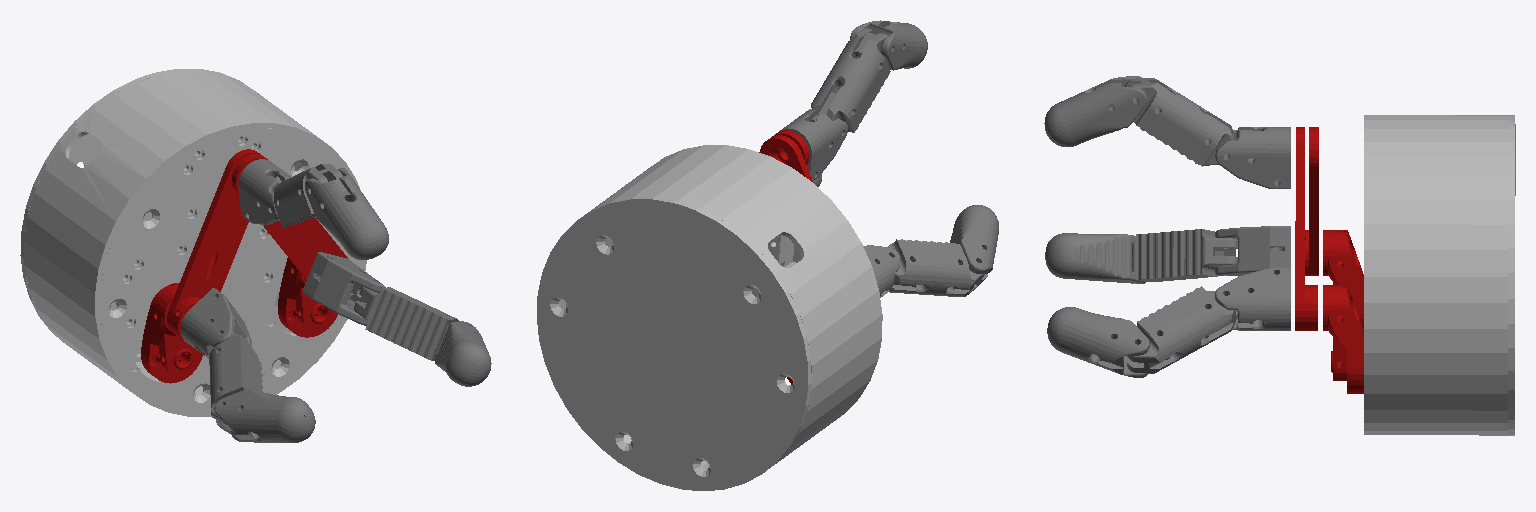
--- What the picture shows (computed from the rendered views, not written in the file) ---
The picture shows the robot from 3 angles, left to right: view 1: azimuth 30°, elevation 25°; view 2: azimuth 150°, elevation 25°; view 3: azimuth 270°, elevation 25°; orthographic projection.
Robot: ur5_plus_RUTH — 24 links, 23 joints (6 revolute, 13 continuous, 4 fixed); root link world; default pose: every joint at zero.
Links seen in each view (by area): view 1: ruth_base, Link_2, Phal_3C, Phal_2B, Phal_1C, Link_1, Phal_2A, Phal_1B, Phal_1A, Link_4, Phal_2C, Link_3 (+2 smaller); view 2: ruth_base, Phal_3B, Phal_1B, Phal_1C, Phal_3A, Phal_3C, Phal_1A, Link_2; view 3: ruth_base, Phal_2B, Phal_3B, Phal_1B, Phal_2C, Phal_3C, Phal_1C, Phal_2A, Phal_3A, Link_3, Phal_1A, Link_4 (+2 smaller).
Link boxes in pixels (x1,y1,x2,y2): ruth_base: (20, 69, 366, 416); Link_2: (167, 149, 260, 339); Phal_3C: (305, 168, 388, 259); Phal_2B: (354, 286, 458, 360); Phal_1C: (214, 389, 315, 442); Link_1: (141, 283, 202, 383); Phal_2A: (302, 252, 385, 325); Phal_1B: (209, 332, 262, 435); Phal_1A: (180, 288, 251, 358); Link_4: (232, 154, 347, 280); Phal_2C: (435, 321, 491, 386); Link_3: (278, 258, 337, 337); ruth_base: (537, 145, 882, 490); Phal_3B: (811, 28, 890, 132); Phal_1B: (888, 239, 983, 296); Phal_1C: (950, 205, 998, 296); Phal_3A: (779, 109, 847, 180); Phal_3C: (850, 20, 927, 70); Phal_1A: (863, 245, 900, 297); Link_2: (760, 135, 813, 182); ruth_base: (1364, 115, 1515, 435); Phal_2B: (1127, 286, 1237, 373); Phal_3B: (1125, 78, 1236, 166); Phal_1B: (1132, 229, 1237, 281); Phal_2C: (1047, 307, 1149, 377); Phal_3C: (1044, 76, 1146, 146); Phal_1C: (1045, 233, 1145, 283); Phal_2A: (1215, 268, 1290, 330); Phal_3A: (1215, 127, 1290, 188); Link_3: (1323, 285, 1363, 393); Phal_1A: (1215, 226, 1290, 275); Link_4: (1295, 127, 1317, 330).
Bounding box of the posed robot: 0.1399 × 0.2054 × 0.1599 m (x, y, z).
Meshes: 21 distinct files referenced, 14 mesh visuals loaded (14 binary STL); not drawn: 7 (reference not matched to a file when rendering).

The robot description file, URDF, robot "ur5_plus_RUTH":
<?xml version="1.0" encoding="utf-8"?>
<!-- This URDF was automatically created by SolidWorks to URDF Exporter! Originally created by Stephen Brawner ([email redacted]) 
     Commit Version: 1.6.0-1-g15f4949  Build Version: 1.6.7594.29634
     For more information, please see http://wiki.ros.org/sw_urdf_exporter -->
<robot
  name="ur5_plus_RUTH">

  <link name="base_link">
    <visual>
      <geometry>
        <mesh filename="../meshes/ur5/visual/base.obj"/>
      </geometry>
      <material name="LightGrey">
        <color rgba="0.7 0.7 0.7 1.0"/>
      </material>
    </visual> 
    <collision>
      <geometry>
        <mesh filename="../meshes/ur5/collision/base.stl"/>
      </geometry>
    </collision>
    <inertial>
      <mass value="0.0"/>
      <origin rpy="0 0 0" xyz="0.0 0.0 0.0"/>
      <inertia ixx="0.00443333156" ixy="0.0" ixz="0.0" iyy="0.00443333156" iyz="0.0" izz="0.0072"/>
    </inertial>
  </link>

  <joint name="shoulder_pan_joint" type="revolute">
    <parent link="base_link"/>
    <child link="shoulder_link"/>
    <origin rpy="0.0 0.0 3.14" xyz="0.0 0.0 0.089159"/>
    <axis xyz="0 0 1"/>
    <limit effort="300.0" lower="-3.14159265359" upper="3.14159265359" velocity="10"/>
    <dynamics damping="0.5" friction="0.0"/>
  </joint>
  <link name="shoulder_link">
    <visual>
      <geometry>
        <mesh filename="../meshes/ur5/visual/shoulder.obj"/>
      </geometry>
      <material name="LightGrey">
        <color rgba="0.7 0.7 0.7 1.0"/>
      </material>
    </visual>
    <collision>
      <geometry>
        <mesh filename="../meshes/ur5/collision/shoulder.stl"/>
      </geometry>
    </collision>
    <inertial>
      <mass value="3.7"/>
      <origin rpy="0 0 0" xyz="0.0 0.0 0.5"/>
      <inertia ixx="0.010267495893" ixy="0.0" ixz="0.0" iyy="0.010267495893" iyz="0.0" izz="0.00666"/>
    </inertial>
  </link>
  <joint name="shoulder_lift_joint" type="revolute">
    <parent link="shoulder_link"/>
    <child link="upper_arm_link"/>
    <origin rpy="0.0 4.8 0.0" xyz="0.0 0.13585 0.0"/>
    <axis xyz="0 1 0"/>
    <limit effort="300.0" lower="-3.14159265359" upper="3.14159265359" velocity="10"/>
    <dynamics damping="0.5" friction="0.0"/>
  </joint>
  <link name="upper_arm_link">
    <visual>
      <geometry>
        <mesh filename="../meshes/ur5/visual/upperarm.obj"/>
      </geometry>
      <material name="LightGrey">
        <color rgba="0.7 0.7 0.7 1.0"/>
      </material>
    </visual>
    <collision>
      <geometry>
        <mesh filename="../meshes/ur5/collision/upperarm.stl"/>
      </geometry>
    </collision>
    <inertial>
      <mass value="8.393"/>
      <origin rpy="0 0 0" xyz="0.0 0.0 0.28"/>
      <inertia ixx="0.22689067591" ixy="0.0" ixz="0.0" iyy="0.22689067591" iyz="0.0" izz="0.0151074"/>
    </inertial>
  </link>
  <joint name="elbow_joint" type="revolute">
    <parent link="upper_arm_link"/>
    <child link="forearm_link"/>
    <origin rpy="0.0 0.0 0.0" xyz="0.0 -0.1197 0.425"/>
    <axis xyz="0 1 0"/>
    <limit effort="300.0" lower="-3.14159265359" upper="3.14159265359" velocity="10"/>
    <dynamics damping="0.5" friction="0.0"/>
  </joint>
  <link name="forearm_link">
    <visual>
      <geometry>
        <mesh filename="../meshes/ur5/visual/forearm.obj"/>
      </geometry>
      <material name="LightGrey">
        <color rgba="0.7 0.7 0.7 1.0"/>
      </material>
    </visual>
    <collision>
      <geometry>
        <mesh filename="../meshes/ur5/collision/forearm.stl"/>
      </geometry>
    </collision>
    <inertial>
      <mass value="2.275"/>
      <origin rpy="0 0 0" xyz="0.0 0.0 0.25"/>
      <inertia ixx="0.049443313556" ixy="0.0" ixz="0.0" iyy="0.049443313556" iyz="0.0" izz="0.004095"/>
    </inertial>
  </link>
  <joint name="wrist_1_joint" type="revolute">
    <parent link="forearm_link"/>
    <child link="wrist_1_link"/>
    <origin rpy="0.0 1.57079632679 0.0" xyz="0.0 0.0 0.39225"/>
    <axis xyz="0 1 0"/>
    <limit effort="300.0" lower="-3.14159265359" upper="3.14159265359" velocity="10"/>
    <dynamics damping="0.5" friction="0.0"/>
  </joint>
  <link name="wrist_1_link">
    <visual>

      <geometry>
        <mesh filename="../meshes/ur5/visual/wrist1.obj"/>
      </geometry>
      <material name="LightGrey">
        <color rgba="0.7 0.7 0.7 1.0"/>
      </material>
    </visual>
    <collision>
      <geometry>
        <mesh filename="../meshes/ur5/collision/wrist1.stl"/>
      </geometry>
    </collision>
    <inertial>
      <mass value="1.219"/>
      <origin rpy="0 0 0" xyz="0.0 0.0 0.0"/>
      <inertia ixx="0.111172755531" ixy="0.0" ixz="0.0" iyy="0.111172755531" iyz="0.0" izz="0.21942"/>
    </inertial>
  </link>
  <joint name="wrist_2_joint" type="revolute">
    <parent link="wrist_1_link"/>
    <child link="wrist_2_link"/>
    <origin rpy="0.0 0.0 0.0" xyz="0.0 0.093 0.0"/>
    <axis xyz="0 0 1"/>
    <limit effort="300.0" lower="-3.14159265359" upper="3.14159265359" velocity="10"/>
    <dynamics damping="0.5" friction="0.0"/>
  </joint>
  <link name="wrist_2_link">
    <visual>
      <geometry>
        <mesh filename="../meshes/ur5/visual/wrist2.obj"/>
      </geometry>
      <material name="LightGrey">
        <color rgba="0.7 0.7 0.7 1.0"/>
      </material>
    </visual>
    <collision>
      <geometry>
        <mesh filename="../meshes/ur5/collision/wrist2.stl"/>
      </geometry>
    </collision>
    <inertial>
      <mass value="1.219"/>
      <origin rpy="0 0 0" xyz="0.0 0.0 0.0"/>
      <inertia ixx="0.111172755531" ixy="0.0" ixz="0.0" iyy="0.111172755531" iyz="0.0" izz="0.21942"/>
    </inertial>
  </link>
  <joint name="wrist_3_joint" type="revolute">
    <parent link="wrist_2_link"/>
    <child link="wrist_3_link"/>
    <origin rpy="0.0 0.0 0.0" xyz="0.0 0.0 0.09465"/>
    <axis xyz="0 1 0"/>
    <limit effort="300.0" lower="-3.14159265359" upper="3.14159265359" velocity="10"/>
    <dynamics damping="0.5" friction="0.0"/>
  </joint>
  <link name="wrist_3_link">
    <visual>
      <geometry>
        <mesh filename="../meshes/ur5/visual/wrist3.obj"/>
      </geometry>
      <material name="LightGrey">
        <color rgba="0.7 0.7 0.7 1.0"/>
      </material>
    </visual>
    <collision>
      <geometry>
        <mesh filename="../meshes/ur5/collision/wrist3.stl"/>
      </geometry>
    </collision>
    <inertial>
      <mass value="0.1879"/>
      <origin rpy="0 0 0" xyz="0.0 0.0 0.0"/>
      <inertia ixx="0.0171364731454" ixy="0.0" ixz="0.0" iyy="0.0171364731454" iyz="0.0" izz="0.033822"/>
    </inertial>
  </link>
  <joint name="ee_fixed_joint" type="fixed">
    <parent link="wrist_3_link"/>
    <child link="ee_link"/>
    <origin rpy="0.0 0.0 1.57079632679" xyz="0.0 0.0823 0.0"/>
  </joint>
  <link name="ee_link">
    <collision>
      <geometry>
        <box size="0.01 0.01 0.01"/>
      </geometry>
      <origin rpy="0 0 0" xyz="-0.01 0 0"/>
    </collision>
  </link>

  <!--################################################
  ########          connect model                #####
  ####################################################-->

  <!-- connect arm to world -->
  <link name="world"/>
  <joint name="world_joint" type="fixed">
    <parent link="world"/>
    <child link="base_link"/>
    <origin rpy="0.0 0.0 0" xyz="0.0 0.0 0.1"/>
  </joint>
  <!-- connect gripper to arm -->
 <!--  <joint name="arm_gripper_joint" type="fixed">
    <parent link="wrist_3_link"/>
    <child link="robotiq_85_adapter_link"/>
    <origin rpy="0.0 0.0 1.5708" xyz="0.0 0.089 0.0"/>
  </joint> -->

  <link
    name="ruth_base">
    <inertial>
      <origin
        xyz="0.127077766283005 -0.0191621330302985 0.1384522158111"
        rpy="0 0 0" />
      <mass
        value="0.2034522422309" />
      <inertia
        ixx="0.000374416249530274"
        ixy="-1.93330020521375E-06"
        ixz="-5.95746646598714E-07"
        iyy="0.000346388296121358"
        iyz="9.53964135617315E-06"
        izz="0.000638064486414968" />
    </inertial>
    <visual>
      <origin
        xyz="0 0 0"
        rpy="0 0 0" />
      <geometry>
        <mesh
          filename="../meshes/RUTH/base_link.STL" />
      </geometry>
      <material
        name="">
        <color
          rgba="0.752941176470588 0.752941176470588 0.752941176470588 1" />
      </material>
    </visual>
    <collision>
      <origin
        xyz="0 0 0"
        rpy="0 0 0" />
      <geometry>
        <mesh
          filename="../meshes/RUTH/base_link.STL" />
      </geometry>
    </collision>
  </link>
  <joint
    name="ruth_ur5_joint"
    type="fixed">
    <origin
      xyz="-0.12725 -0.015 -0.02055"
      rpy="-1.57 0 0" />
    <parent
      link="wrist_3_link" />
    <child
      link="ruth_base" />
    <axis
      xyz="0 1 0" />
  </joint>



  <link
    name="tcp">
    <inertial>
      <origin
        xyz="-4.85522099191726E-08 0.00754176115850061 0.00980207436679198"
        rpy="0 0 0" />
      <mass
        value="0.0001" />
      <inertia
        ixx="1.78457989700508E-06"
        ixy="-9.24736128227175E-13"
        ixz="1.00313454096253E-11"
        iyy="2.01750856012629E-06"
        iyz="-3.16852779957069E-07"
        izz="6.87048179378842E-07" />
    </inertial>
    <visual>
      <origin
        xyz="0 0 0"
        rpy="0 0 0" />
      <geometry>
        <cylinder length="0.001" radius="0.001"/>
      </geometry>
      <material
        name="">
        <color
          rgba="0.694117647058824 0.0980392156862745 0.0980392156862745 1" />
      </material>
    </visual>
    <collision>
      <origin
        xyz="0 0 0"
        rpy="0 0 0" />
      <geometry>
        <cylinder length="0.001" radius="0.001"/>
      </geometry>
    </collision>
  </link>
  <joint
    name="tcp_joint"
    type="fixed">
    <origin
      xyz="0.12725 0.0069455 0.17"
      rpy="0 0 0" />
    <parent
      link="ruth_base" />
    <child
      link="tcp" />
    <axis
      xyz="0 1 0" />
  </joint>

  <link
    name="Link_1">
    <inertial>
      <origin
        xyz="-4.85522099191726E-08 0.00754176115850061 0.00980207436679198"
        rpy="0 0 0" />
      <mass
        value="0.0106954297331709" />
      <inertia
        ixx="1.78457989700508E-06"
        ixy="-9.24736128227175E-13"
        ixz="1.00313454096253E-11"
        iyy="2.01750856012629E-06"
        iyz="-3.16852779957069E-07"
        izz="6.87048179378842E-07" />
    </inertial>
    <visual>
      <origin
        xyz="0 0 0"
        rpy="0 0 0" />
      <geometry>
        <mesh
          filename="../meshes/RUTH/Link_1.STL" />
      </geometry>
      <material
        name="">
        <color
          rgba="0.694117647058824 0.0980392156862745 0.0980392156862745 1" />
      </material>
    </visual>
    <collision>
      <origin
        xyz="0 0 0"
        rpy="0 0 0" />
      <geometry>
        <mesh
          filename="../meshes/RUTH/Link_1.STL" />
      </geometry>
    </collision>
  </link>
  <joint
    name="Joint_Link_1"
    type="continuous">
    <origin
      xyz="0.16225 0.0069455 0.17"
      rpy="1.5708 0 0" />
    <parent
      link="ruth_base" />
    <child
      link="Link_1" />
    <axis
      xyz="0 1 0" />
    <limit lower="-1.57079632679" upper="3.1416" effort="100000" velocity="300000"/>
  </joint>
  <link
    name="Link_2">
    <inertial>
      <origin
        xyz="-0.0138504507471105 0.00298913196612882 0.0239892494327788"
        rpy="0 0 0" />
      <mass
        value="0.0081155769847565" />
      <inertia
        ixx="4.24624272679738E-06"
        ixy="-1.0839998191557E-07"
        ixz="2.27278814057608E-06"
        iyy="5.77733675951076E-06"
        iyz="1.87767521060012E-07"
        izz="1.62176930787311E-06" />
    </inertial>
    <visual>
      <origin
        xyz="0 0 0"
        rpy="0 0 0" />
      <geometry>
        <mesh
          filename="../meshes/RUTH/Link_2.STL" />
      </geometry>
      <material
        name="">
        <color
          rgba="0.694117647058824 0.0980392156862745 0.0980392156862745 1" />
      </material>
    </visual>
    <collision>
      <origin
        xyz="0 0 0"
        rpy="0 0 0" />
      <geometry>
        <mesh
          filename="../meshes/RUTH/Link_2.STL" />
      </geometry>
    </collision>
  </link>
  <joint
    name="Joint_Link_2"
    type="continuous">
    <origin
      xyz="0 0.0198 0.025"
      rpy="0 0 0" />
    <parent
      link="Link_1" />
    <child
      link="Link_2" />
    <axis
      xyz="0 -1 0" />
  </joint>
  <link
    name="Phal_1A">
    <inertial>
      <origin
        xyz="-0.00279862078801177 0.0117506775312538 0.00146744230773752"
        rpy="0 0 0" />
      <mass
        value="0.00785370565672167" />
      <inertia
        ixx="8.46253699668518E-07"
        ixy="-4.44903495207771E-08"
        ixz="1.63079150535208E-08"
        iyy="6.74699672174807E-07"
        iyz="2.3327010744044E-08"
        izz="8.68810334780057E-07" />
    </inertial>
    <visual>
      <origin
        xyz="0 0 0"
        rpy="0 0 0" />
      <geometry>
        <mesh
          filename="../meshes/RUTH/Phal_1A.STL" />
      </geometry>
      <material
        name="">
        <color
          rgba="0.501960784313725 0.501960784313725 0.501960784313725 1" />
      </material>
    </visual>
    <collision>
      <origin
        xyz="0 0 0"
        rpy="0 0 0" />
      <geometry>
        <mesh
          filename="../meshes/RUTH/Phal_1A.STL" />
      </geometry>
    </collision>
  </link>
  <joint
    name="Joint_Phal_1A"
    type="continuous">
    <origin
      xyz="0 0.0120000000000001 0"
      rpy="0 0 0" />
    <parent
      link="Link_2" />
    <child
      link="Phal_1A" />
    <axis
      xyz="0 -1 0" />
  </joint>
  <link
    name="Phal_1B">
    <inertial>
      <origin
        xyz="0.0120982667168436 -0.00600000125632763 -0.0204718089290909"
        rpy="0 0 0" />
      <mass
        value="0.0131173787903579" />
      <inertia
        ixx="2.03432557340068E-06"
        ixy="-7.39160352105682E-13"
        ixz="9.01275696643256E-07"
        iyy="2.47473730017538E-06"
        iyz="2.78695009766931E-12"
        izz="1.22834934020072E-06" />
    </inertial>
    <visual>
      <origin
        xyz="0 0 0"
        rpy="0 0 0" />
      <geometry>
        <mesh
          filename="../meshes/RUTH/Phal_1B.STL" />
      </geometry>
      <material
        name="">
        <color
          rgba="0.501960784313725 0.501960784313725 0.501960784313725 1" />
      </material>
    </visual>
    <collision>
      <origin
        xyz="0 0 0"
        rpy="0 0 0" />
      <geometry>
        <mesh
          filename="../meshes/RUTH/Phal_1B.STL" />
      </geometry>
    </collision>
  </link>
  <joint
    name="Joint_Phal_1B"
    type="continuous">
    <origin
      xyz="0.00278624044845138 0.0279999999999999 0.00531383704712683"
      rpy="1.5707963267949 0.48292697765172 0" />
    <parent
      link="Phal_1A" />
    <child
      link="Phal_1B" />
    <axis
      xyz="0 -1 0" />
  </joint>
  <link
    name="Phal_1C">
    <inertial>
      <origin
        xyz="-0.0110468357804479 0.0100000213789645 -0.0200264772819169"
        rpy="0 0 0" />
      <mass
        value="0.0104118545526638" />
      <inertia
        ixx="1.47494552322991E-06"
        ixy="-3.74180497248539E-13"
        ixz="-3.96153464604467E-07"
        iyy="1.59524742849828E-06"
        iyz="5.37052654497466E-12"
        izz="8.01070476166137E-07" />
    </inertial>
    <visual>
      <origin
        xyz="0 0 0"
        rpy="0 0 0" />
      <geometry>
        <mesh
          filename="../meshes/RUTH/Phal_1C.STL" />
      </geometry>
      <material
        name="">
        <color
          rgba="0.501960784313725 0.501960784313725 0.501960784313725 1" />
      </material>
    </visual>
    <collision>
      <origin
        xyz="0 0 0"
        rpy="0 0 0" />
      <geometry>
        <mesh
          filename="../meshes/RUTH/Phal_1C.STL" />
      </geometry>
    </collision>
  </link>
  <joint
    name="Joint_Phal_1C"
    type="continuous">
    <origin
      xyz="0.0258033817734561 -0.016 -0.0398802644055086"
      rpy="0 0 0" />
    <parent
      link="Phal_1B" />
    <child
      link="Phal_1C" />
    <axis
      xyz="0 -1 0" />
  </joint>
  <link
    name="Link_3">
    <inertial>
      <origin
        xyz="-4.85522098914171E-08 0.00754176115850064 0.00980207436679202"
        rpy="0 0 0" />
      <mass
        value="0.0106954297331709" />
      <inertia
        ixx="1.78457989700509E-06"
        ixy="-9.24736128471064E-13"
        ixz="1.0031345410212E-11"
        iyy="2.0175085601263E-06"
        iyz="-3.1685277995707E-07"
        izz="6.8704817937884E-07" />
    </inertial>
    <visual>
      <origin
        xyz="0 0 0"
        rpy="0 0 0" />
      <geometry>
        <mesh
          filename="../meshes/RUTH/Link_3.STL" />
      </geometry>
      <material
        name="">
        <color
          rgba="0.694117647058824 0.0980392156862745 0.0980392156862745 1" />
      </material>
    </visual>
    <collision>
      <origin
        xyz="0 0 0"
        rpy="0 0 0" />
      <geometry>
        <mesh
          filename="../meshes/RUTH/Link_3.STL" />
      </geometry>
    </collision>
  </link>
  <joint
    name="Joint_Link_3"
    type="continuous">
    <origin
      xyz="0.0922534097079191 0.00694554989226147 0.169997985422611"
      rpy="1.5707963267949 0 0" />
    <parent
      link="ruth_base" />
    <child
      link="Link_3" />
    <axis
      xyz="0 1 0" />
    <limit lower="-3.1416" upper="1.57079632679" effort="100000" velocity="300000"/>
  </joint>
  <link
    name="Link_4">
    <inertial>
      <origin
        xyz="0.0139032099348594 -0.00302765430432597 0.0240810659954725"
        rpy="0 0 0" />
      <mass
        value="0.00851266701882223" />
      <inertia
        ixx="4.45344908990661E-06"
        ixy="-1.21626377517706E-07"
        ixz="-2.38724538041822E-06"
        iyy="6.05231136866237E-06"
        iyz="-2.10663065401218E-07"
        izz="1.69689556389439E-06" />
    </inertial>
    <visual>
      <origin
        xyz="0 0 0"
        rpy="0 0 0" />
      <geometry>
        <mesh
          filename="../meshes/RUTH/Link_4.STL" />
      </geometry>
      <material
        name="">
        <color
          rgba="0.694117647058824 0.0980392156862745 0.0980392156862745 1" />
      </material>
    </visual>
    <collision>
      <origin
        xyz="0 0 0"
        rpy="0 0 0" />
      <geometry>
        <mesh
          filename="../meshes/RUTH/Link_4.STL" />
      </geometry>
    </collision>
  </link>
  <joint
    name="Joint_Link_4"
    type="continuous">
    <origin
      xyz="0 0.0297999999999999 0.025"
      rpy="0 0 0" />
    <parent
      link="Link_3" />
    <child
      link="Link_4" />
    <axis
      xyz="0 1 0" />
  </joint>
  <link
    name="Phal_2A">
    <inertial>
      <origin
        xyz="0.00273512307932779 0.0117506764902445 0.00158264221325107"
        rpy="0 0 0" />
      <mass
        value="0.00785370643177855" />
      <inertia
        ixx="8.47653530081637E-07"
        ixy="4.34797730970517E-08"
        ixz="-1.71922555076792E-08"
        iyy="6.74699696381469E-07"
        iyz="2.51605438037303E-08"
        izz="8.67410355207584E-07" />
    </inertial>
    <visual>
      <origin
        xyz="0 0 0"
        rpy="0 0 0" />
      <geometry>
        <mesh
          filename="../meshes/RUTH/Phal_2A.STL" />
      </geometry>
      <material
        name="">
        <color
          rgba="0.501960784313725 0.501960784313725 0.501960784313725 1" />
      </material>
    </visual>
    <collision>
      <origin
        xyz="0 0 0"
        rpy="0 0 0" />
      <geometry>
        <mesh
          filename="../meshes/RUTH/Phal_2A.STL" />
      </geometry>
    </collision>
  </link>
  <joint
    name="Joint_Phal_2A"
    type="continuous">
    <origin
      xyz="0 0.00200000000000009 0"
      rpy="0 0 0" />
    <parent
      link="Link_4" />
    <child
      link="Phal_2A" />
    <axis
      xyz="0 1 0" />
  </joint>
  <link
    name="Phal_2B">
    <inertial>
      <origin
        xyz="-0.0131448589539002 -0.00599999942369064 0.0198160499292389"
        rpy="0 0 0" />
      <mass
        value="0.0131173778723872" />
      <inertia
        ixx="1.93868931541914E-06"
        ixy="8.1090897421688E-13"
        ixz="9.38206994091701E-07"
        iyy="2.47473707392019E-06"
        iyz="-2.69713536645353E-12"
        izz="1.32398571321504E-06" />
    </inertial>
    <visual>
      <origin
        xyz="0 0 0"
        rpy="0 0 0" />
      <geometry>
        <mesh
          filename="../meshes/RUTH/Phal_2B.STL" />
      </geometry>
      <material
        name="">
        <color
          rgba="0.501960784313725 0.501960784313725 0.501960784313725 1" />
      </material>
    </visual>
    <collision>
      <origin
        xyz="0 0 0"
        rpy="0 0 0" />
      <geometry>
        <mesh
          filename="../meshes/RUTH/Phal_2B.STL" />
      </geometry>
    </collision>
  </link>
  <joint
    name="Joint_Phal_2B"
    type="continuous">
    <origin
      xyz="0.00300504673980075 0.0280000000000006 -0.0051932354165403"
      rpy="-1.5707963267949 -0.524570293743958 0" />
    <parent
      link="Phal_2A" />
    <child
      link="Phal_2B" />
    <axis
      xyz="0 -1 0" />
  </joint>
  <link
    name="Phal_2C">
    <inertial>
      <origin
        xyz="0.0105982261427687 0.00999993953813486 0.0202674497473194"
        rpy="0 0 0" />
      <mass
        value="0.010411775765542" />
      <inertia
        ixx="1.49223764913058E-06"
        ixy="6.31047626059957E-12"
        ixz="-3.80761404238619E-07"
        iyy="1.59524752766758E-06"
        iyz="-5.23230553658732E-12"
        izz="7.8376177593463E-07" />
    </inertial>
    <visual>
      <origin
        xyz="0 0 0"
        rpy="0 0 0" />
      <geometry>
        <mesh
          filename="../meshes/RUTH/Phal_2C.STL" />
      </geometry>
      <material
        name="">
        <color
          rgba="0.501960784313725 0.501960784313725 0.501960784313725 1" />
      </material>
    </visual>
    <collision>
      <origin
        xyz="0 0 0"
        rpy="0 0 0" />
      <geometry>
        <mesh
          filename="../meshes/RUTH/Phal_2C.STL" />
      </geometry>
    </collision>
  </link>
  <joint
    name="Joint_Phal_2C"
    type="continuous">
    <origin
      xyz="-0.0278391879689591 -0.0160000000000013 0.0384867459423299"
      rpy="0 0 0" />
    <parent
      link="Phal_2B" />
    <child
      link="Phal_2C" />
    <axis
      xyz="0 -1 0" />
  </joint>
  <link
    name="Phal_3A">
    <inertial>
      <origin
        xyz="-4.64824360325855E-05 0.011844185627141 -0.00322077743623221"
        rpy="0 0 0" />
      <mass
        value="0.00771334926048967" />
      <inertia
        ixx="8.69372993344747E-07"
        ixy="-7.58373494813342E-10"
        ixz="-5.44845564135252E-10"
        iyy="6.68679153896794E-07"
        iyz="-5.26155130297695E-08"
        izz="8.31468833010338E-07" />
    </inertial>
    <visual>
      <origin
        xyz="0 0 0"
        rpy="0 0 0" />
      <geometry>
        <mesh
          filename="../meshes/RUTH/Phal_3A.STL" />
      </geometry>
      <material
        name="">
        <color
          rgba="0.501960784313725 0.501960784313725 0.501960784313725 1" />
      </material>
    </visual>
    <collision>
      <origin
        xyz="0 0 0"
        rpy="0 0 0" />
      <geometry>
        <mesh
          filename="../meshes/RUTH/Phal_3A.STL" />
      </geometry>
    </collision>
  </link>
  <joint
    name="Joint_Phal_3A"
    type="continuous">
    <origin
      xyz="0.0350000000000004 0.00199999999999995 0.0606217782649105"
      rpy="0 0 0" />
    <parent
      link="Link_4" />
    <child
      link="Phal_3A" />
    <axis
      xyz="0 1 0" />
  </joint>
  <link
    name="Phal_3B">
    <inertial>
      <origin
        xyz="0.0122199440830796 0.00600000443296307 0.0203994109254921"
        rpy="0 0 0" />
      <mass
        value="0.013117381098351" />
      <inertia
        ixx="2.02356420154645E-06"
        ixy="1.28745041276076E-13"
        ixz="-9.06010079315065E-07"
        iyy="2.4747368223954E-06"
        iyz="2.48875417568044E-12"
        izz="1.23910996344089E-06" />
    </inertial>
    <visual>
      <origin
        xyz="0 0 0"
        rpy="0 0 0" />
      <geometry>
        <mesh
          filename="../meshes/RUTH/Phal_3B.STL" />
      </geometry>
      <material
        name="">
        <color
          rgba="0.501960784313725 0.501960784313725 0.501960784313725 1" />
      </material>
    </visual>
    <collision>
      <origin
        xyz="0 0 0"
        rpy="0 0 0" />
      <geometry>
        <mesh
          filename="../meshes/RUTH/Phal_3B.STL" />
      </geometry>
    </collision>
  </link>
  <joint
    name="Joint_Phal_3B"
    type="continuous">
    <origin
      xyz="-0.00599937573877415 0.0280000000000002 8.65490901570121E-05"
      rpy="-1.57079632681614 -1.55637097814385 0" />
    <parent
      link="Phal_3A" />
    <child
      link="Phal_3B" />
    <axis
      xyz="0 -1 0" />
  </joint>
  <link
    name="Phal_3C">
    <inertial>
      <origin
        xyz="-0.0104045890346146 -0.00999997172809375 0.0203675725911235"
        rpy="0 0 0" />
      <mass
        value="0.0104117583337008" />
      <inertia
        ixx="1.4994276720962E-06"
        ixy="5.5090389658656E-12"
        ixz="3.73942361423553E-07"
        iyy="1.59524806853242E-06"
        iyz="3.20115850053571E-12"
        izz="7.76567341801856E-07" />
    </inertial>
    <visual>
      <origin
        xyz="0 0 0"
        rpy="0 0 0" />
      <geometry>
        <mesh
          filename="../meshes/RUTH/Phal_3C.STL" />
      </geometry>
      <material
        name="">
        <color
          rgba="0.501960784313725 0.501960784313725 0.501960784313725 1" />
      </material>
    </visual>
    <collision>
      <origin
        xyz="0 0 0"
        rpy="0 0 0" />
      <geometry>
        <mesh
          filename="../meshes/RUTH/Phal_3C.STL" />
      </geometry>
    </collision>
  </link>
  <joint
    name="Joint_Phal_3C"
    type="continuous">
    <origin
      xyz="0.0260403731007842 0.0160000000000001 0.0397259231330368"
      rpy="0 0 0" />
    <parent
      link="Phal_3B" />
    <child
      link="Phal_3C" />
    <axis
      xyz="0 -1 0" />
  </joint>
</robot>
